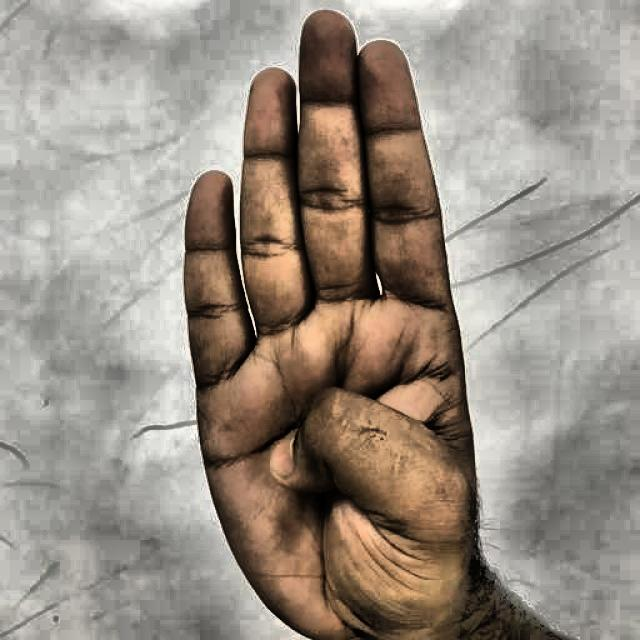Ba: (152, 4, 519, 636)
